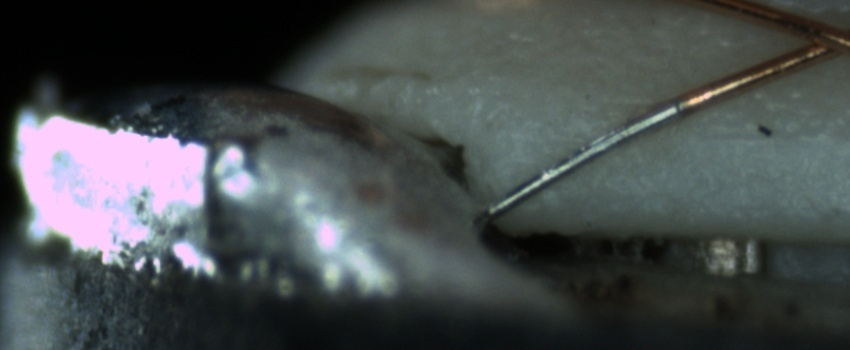CL: (777, 8, 849, 67)
DL: (675, 108, 847, 167)
TS: (477, 106, 681, 220)
